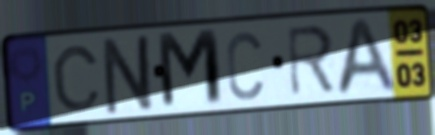A: (332, 14, 401, 99)
C: (49, 43, 104, 114), (224, 28, 265, 103)
M: (154, 26, 227, 113)
N: (101, 31, 158, 118)
R: (284, 22, 338, 99)
